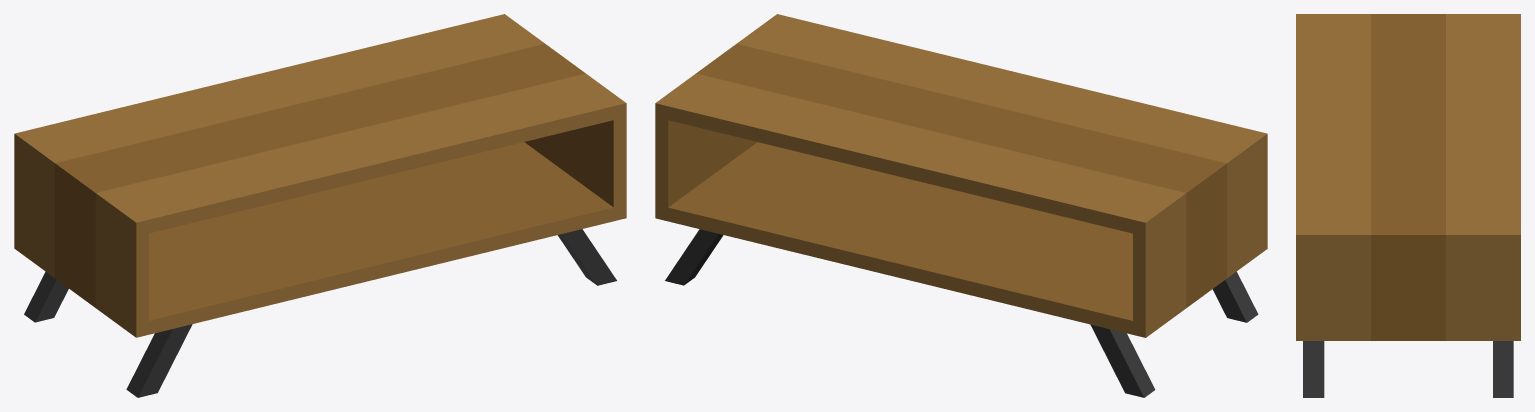
The model's file is CoffeeTable.fbx.
The picture shows the model from 3 angles, left to right: view 1: azimuth 30°, elevation 25°; view 2: azimuth 150°, elevation 25°; view 3: azimuth 270°, elevation 25°; orthographic projection. The views are drawn at different scales.
Parts seen in each view (by area): view 1: CoffeeTable; view 2: CoffeeTable; view 3: CoffeeTable.
Boxes of the visible parts, x1,y1,x2,y2 form: CoffeeTable: (14, 14, 626, 397); CoffeeTable: (655, 14, 1267, 397); CoffeeTable: (1296, 14, 1520, 397).
Size of the model in its own units: 146 by 51.13 by 62.96.
